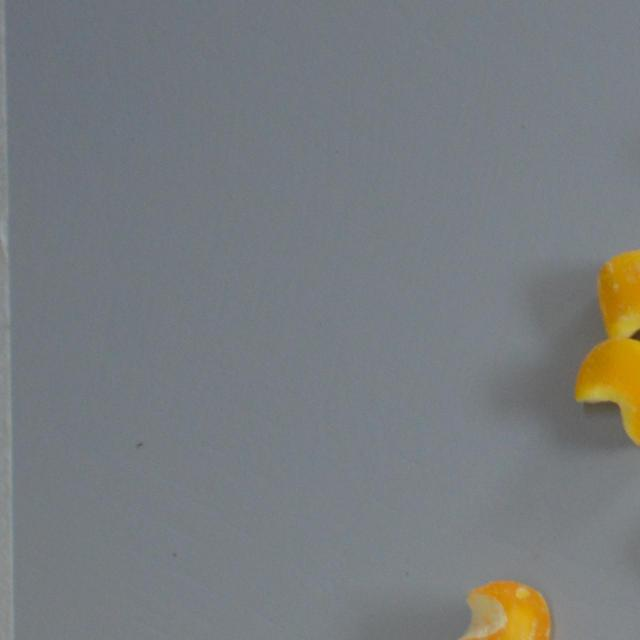no_canjicado: (570, 334, 640, 448)
pelicula: (440, 576, 554, 640), (592, 246, 640, 354)
